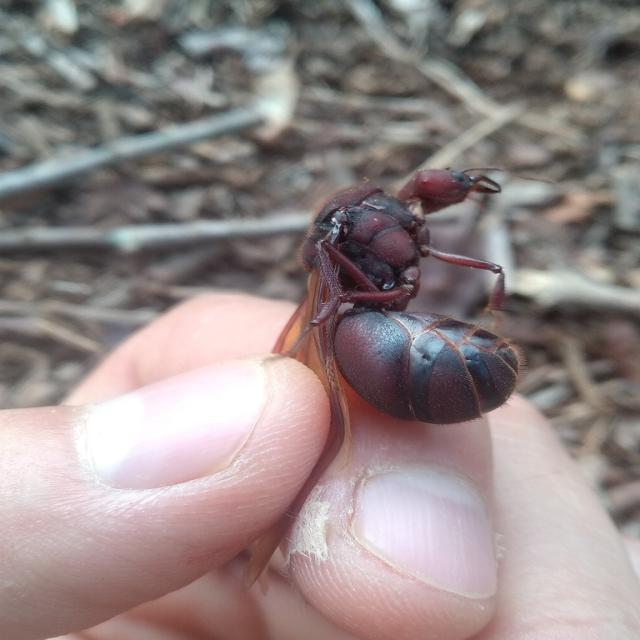Alive-Male-Alate: (276, 161, 524, 458)
